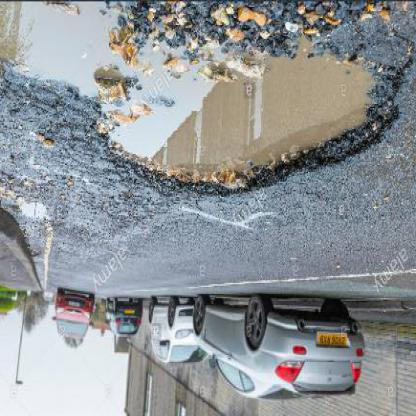pothole: (92, 23, 404, 205), (2, 3, 147, 114), (20, 202, 52, 227)
